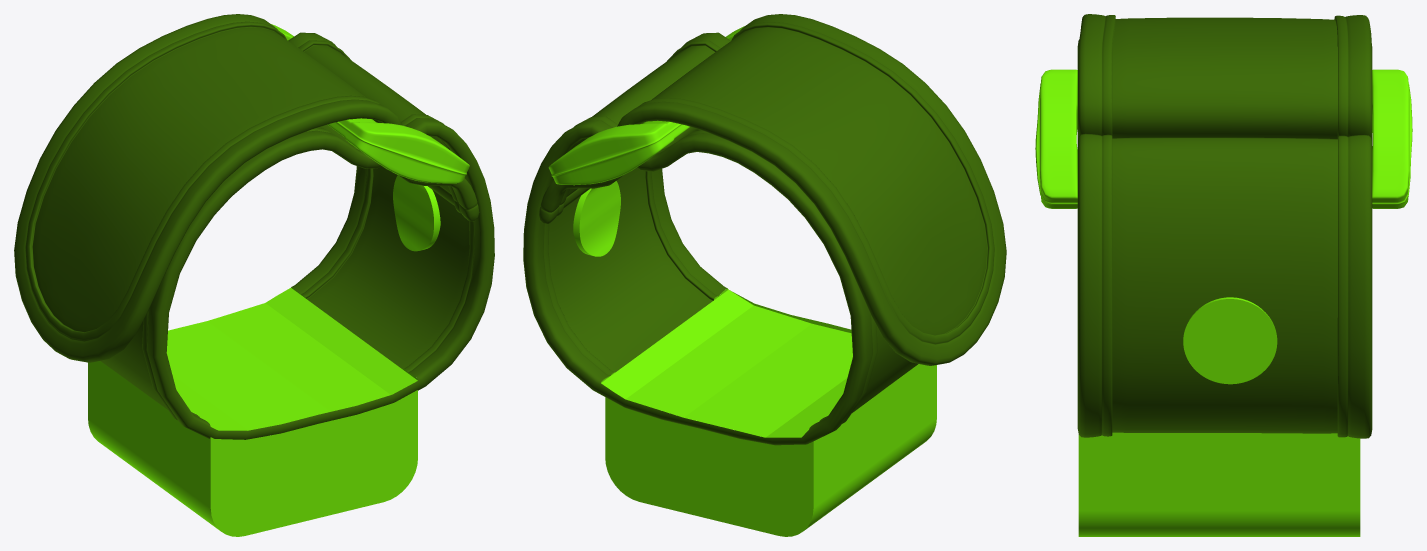
The model's file is arm_band.glb.
The picture shows the model from 3 angles, left to right: view 1: azimuth 30°, elevation 25°; view 2: azimuth 150°, elevation 25°; view 3: azimuth 270°, elevation 25°; orthographic projection. The views are drawn at different scales.
Visible parts, largest first — view 1: ARM BAND.SLDPRT; view 2: ARM BAND.SLDPRT; view 3: ARM BAND.SLDPRT.
Boxes of the visible parts, box(x1,y1,x2,y2) form: ARM BAND.SLDPRT: box(14, 14, 494, 536); ARM BAND.SLDPRT: box(523, 14, 1006, 536); ARM BAND.SLDPRT: box(1035, 14, 1412, 536).
Bounding box in the file's own units: 0.011 × 0.0113 × 0.0083.
